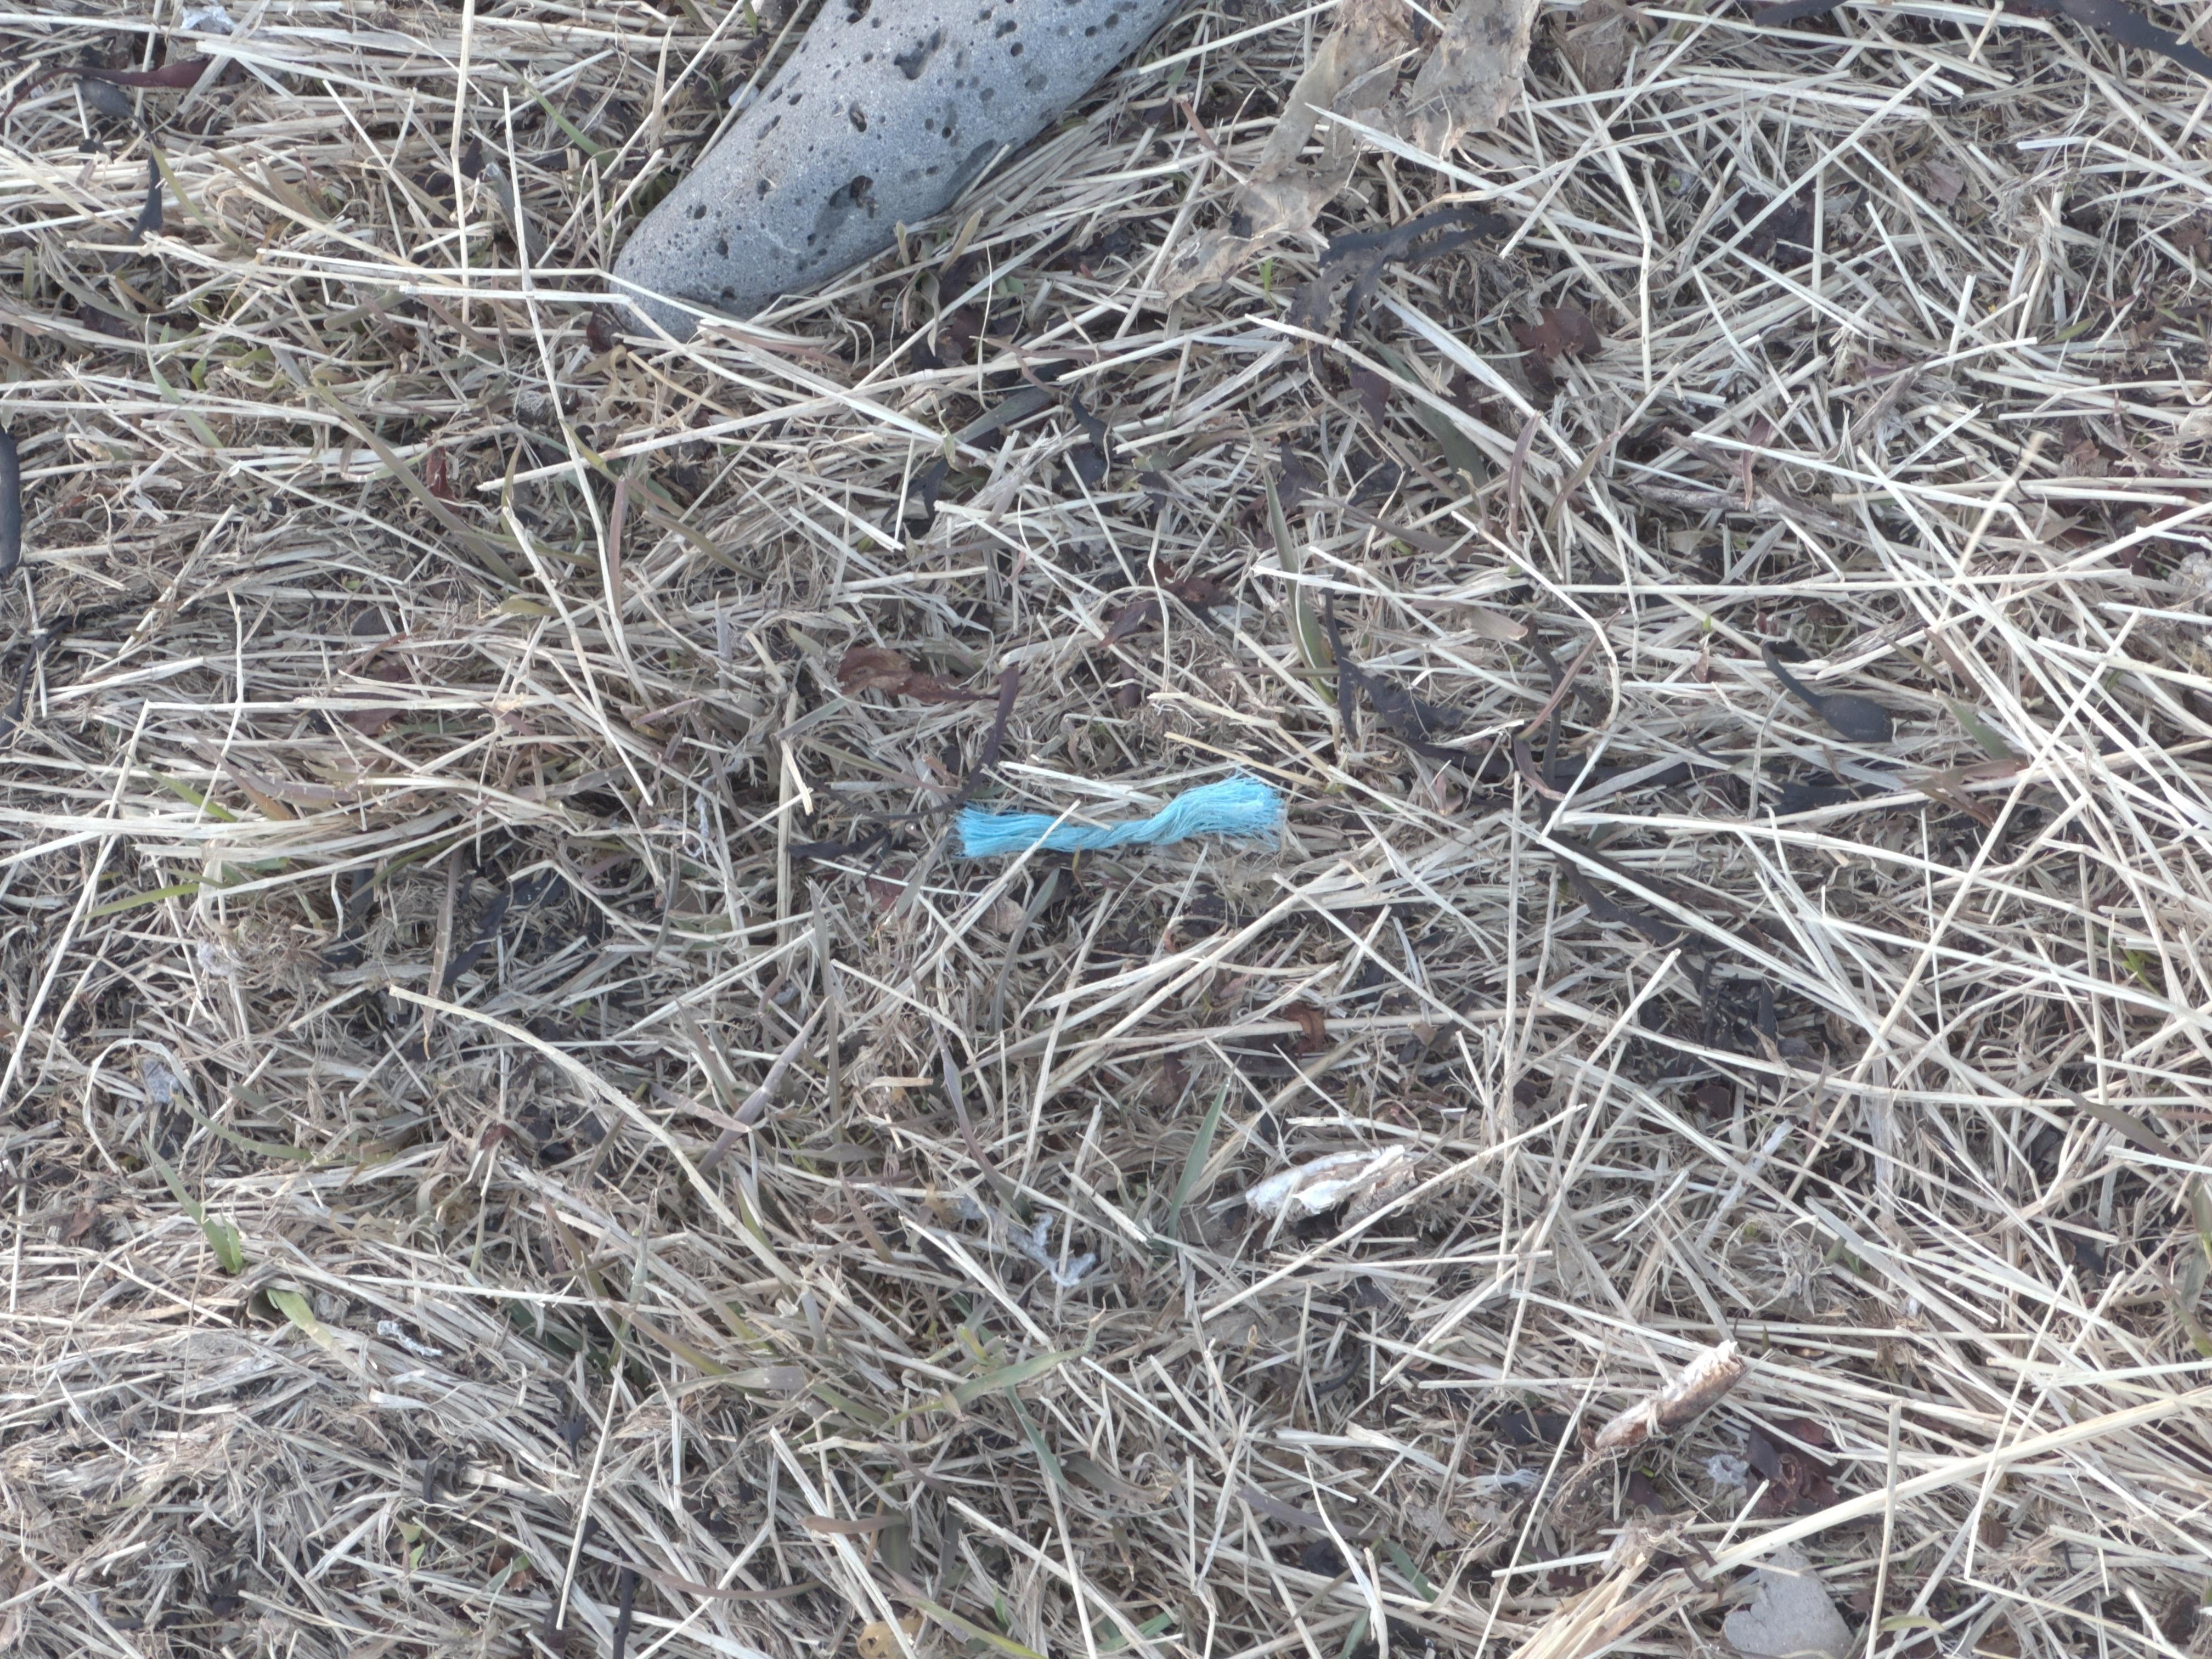trash: (954, 774, 1284, 859)
